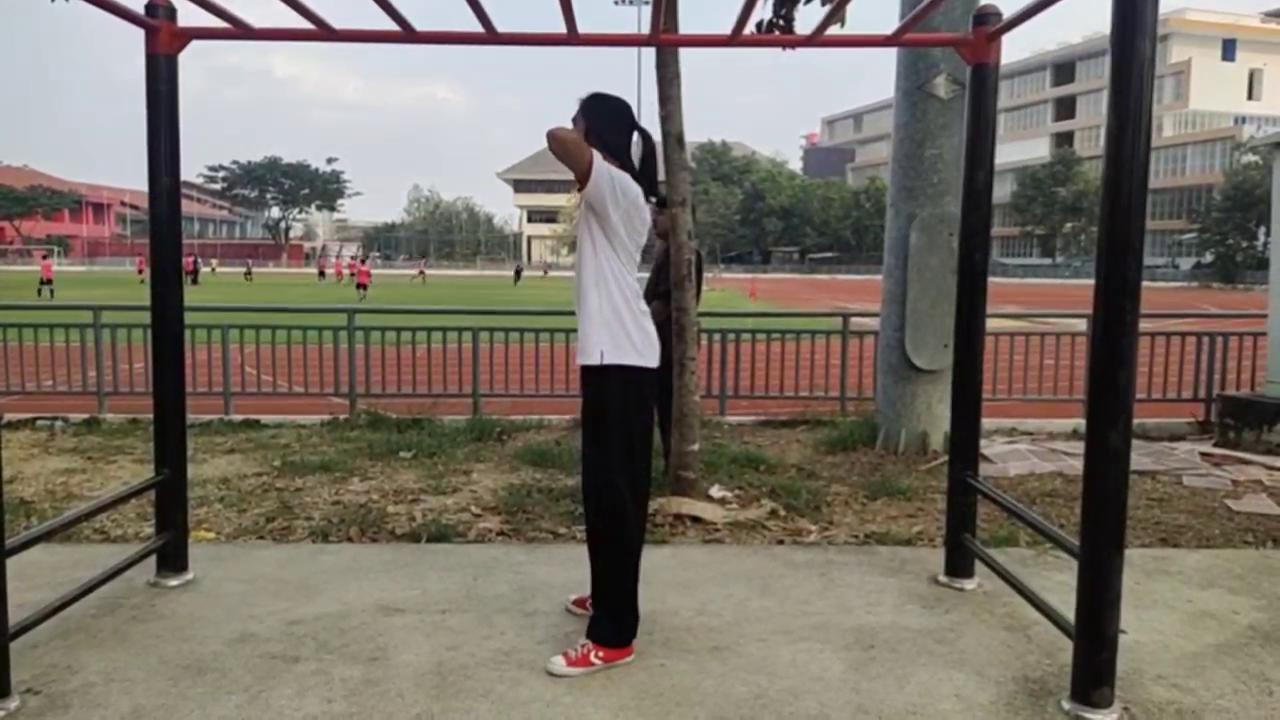squat up: (545, 95, 674, 677)
